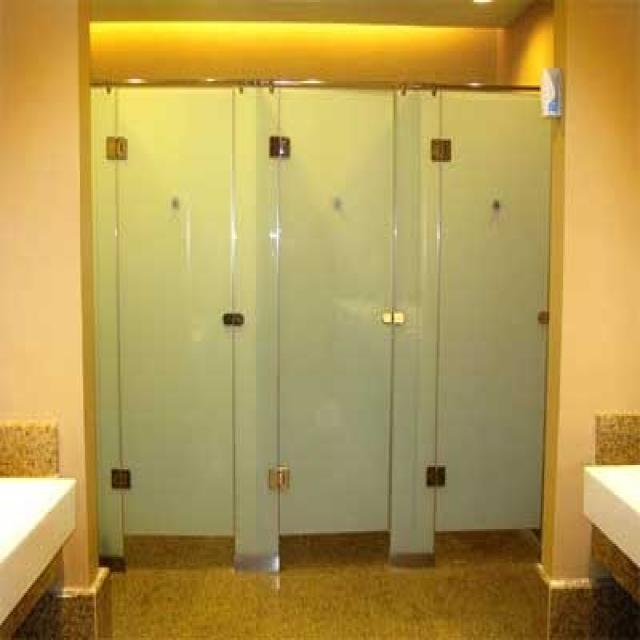door: (91, 83, 257, 572), (257, 86, 419, 568), (417, 86, 553, 566)
